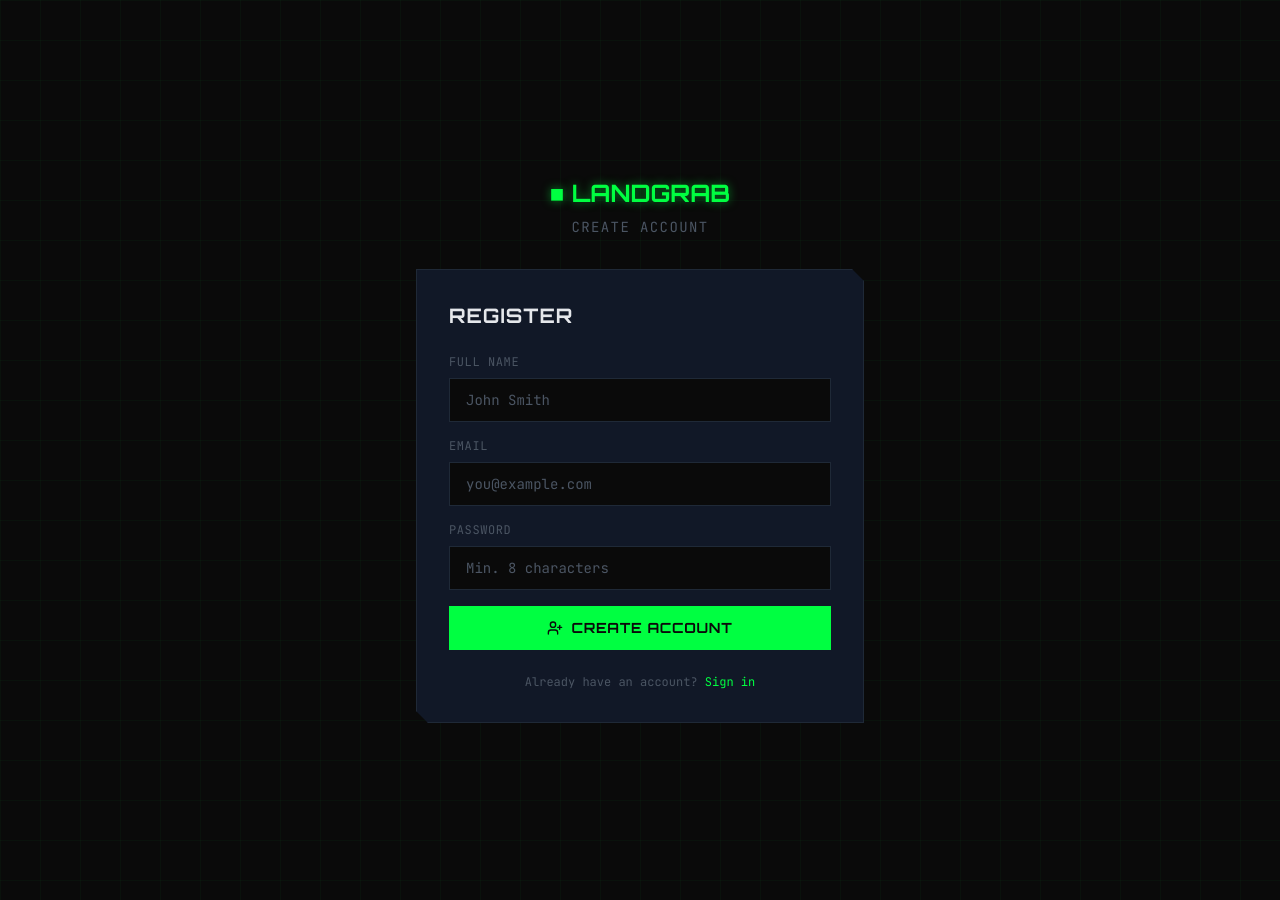
Scenario: RegisterPage › shows a network error when the backend is unreachable
This screenshot has width=1280, height=900.
Type "Jane Doe" into the field with placeholder "John Smith" at (640, 400), box [449,378,831,422]
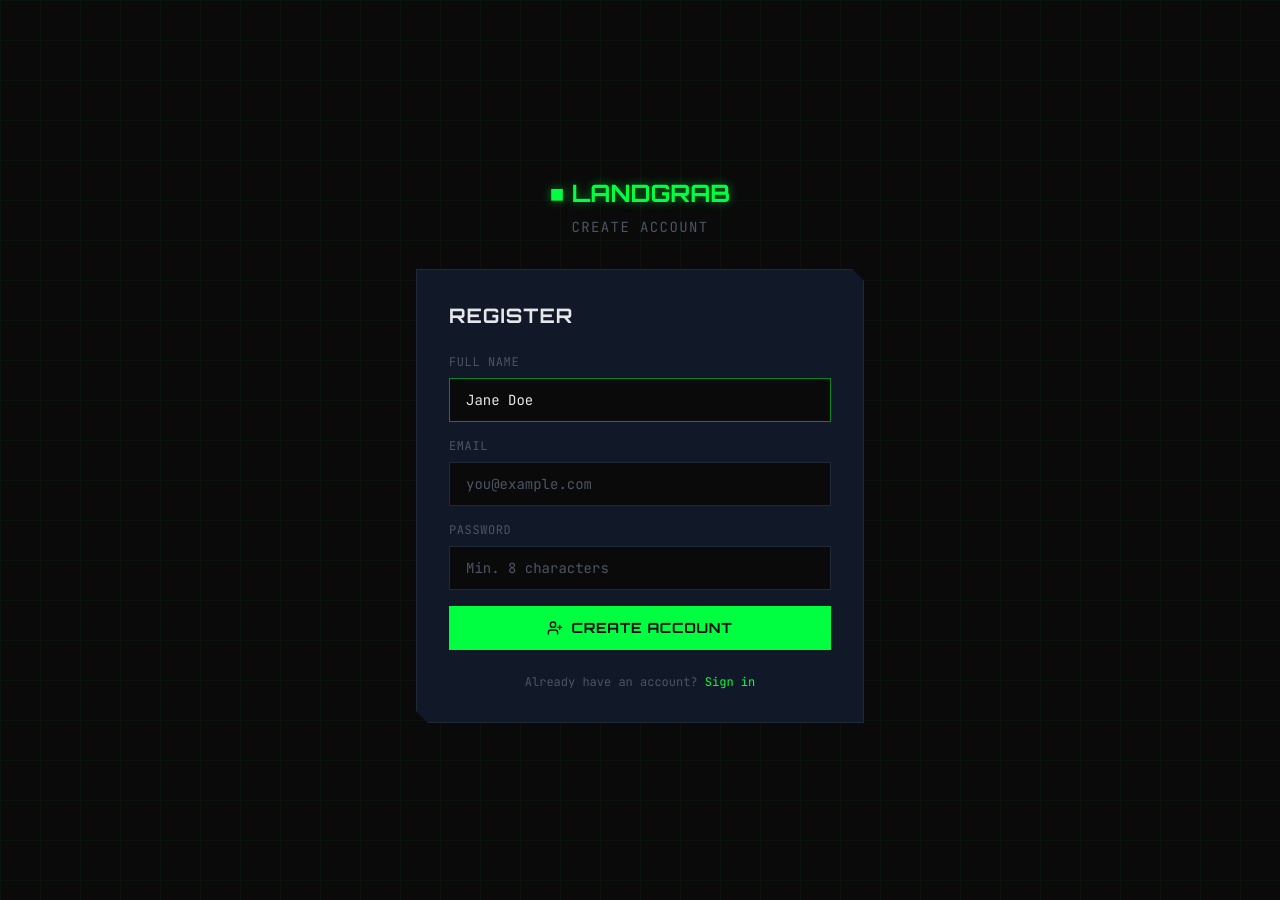
Type "jane@example.com" into the field with placeholder "you@example.com" at (640, 484), box [449,462,831,506]
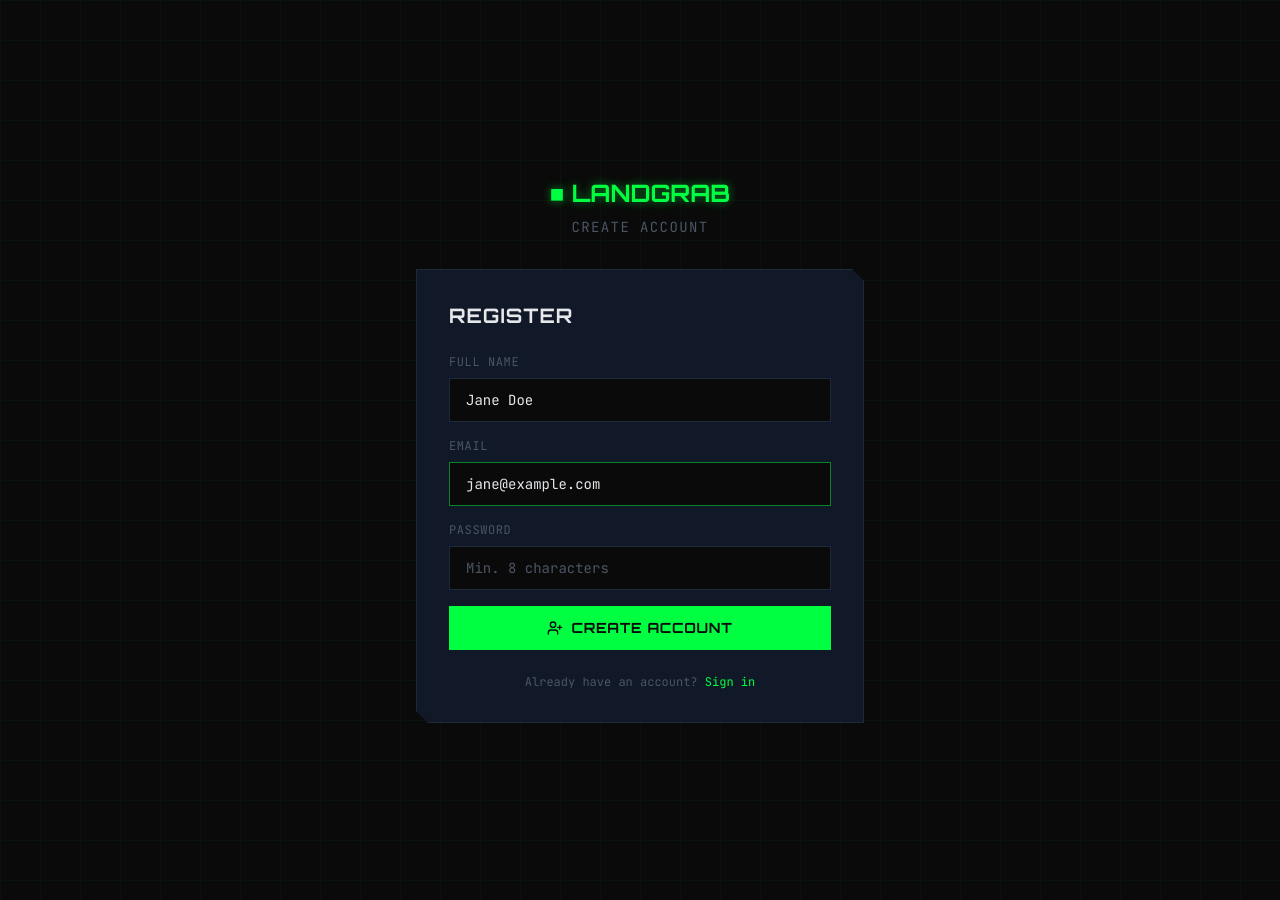
Type "password123" into the password field with placeholder "Min. 8 characters" at (640, 568), box [449,546,831,590]
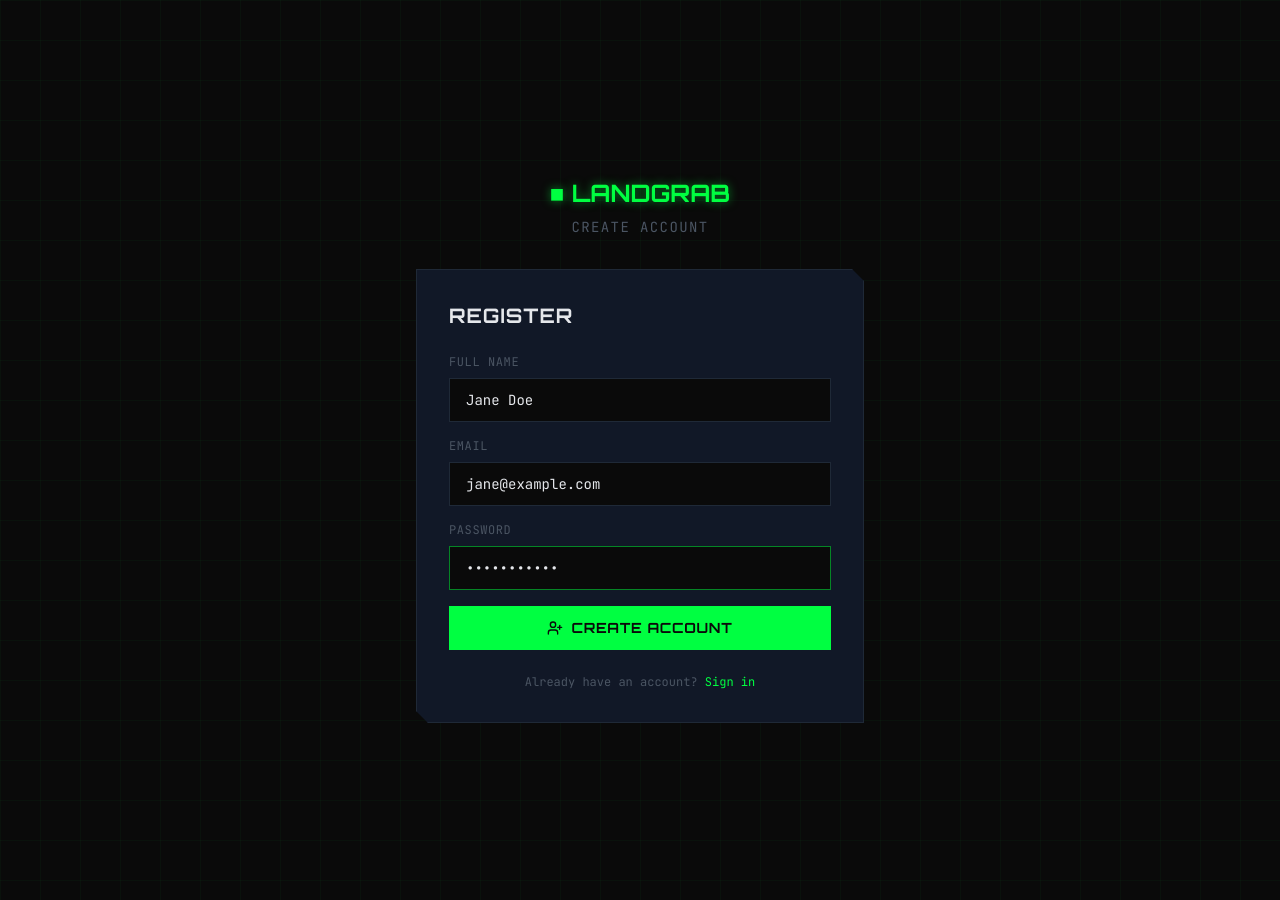
Click the button "Create Account" at (640, 628), box [449,606,831,650]
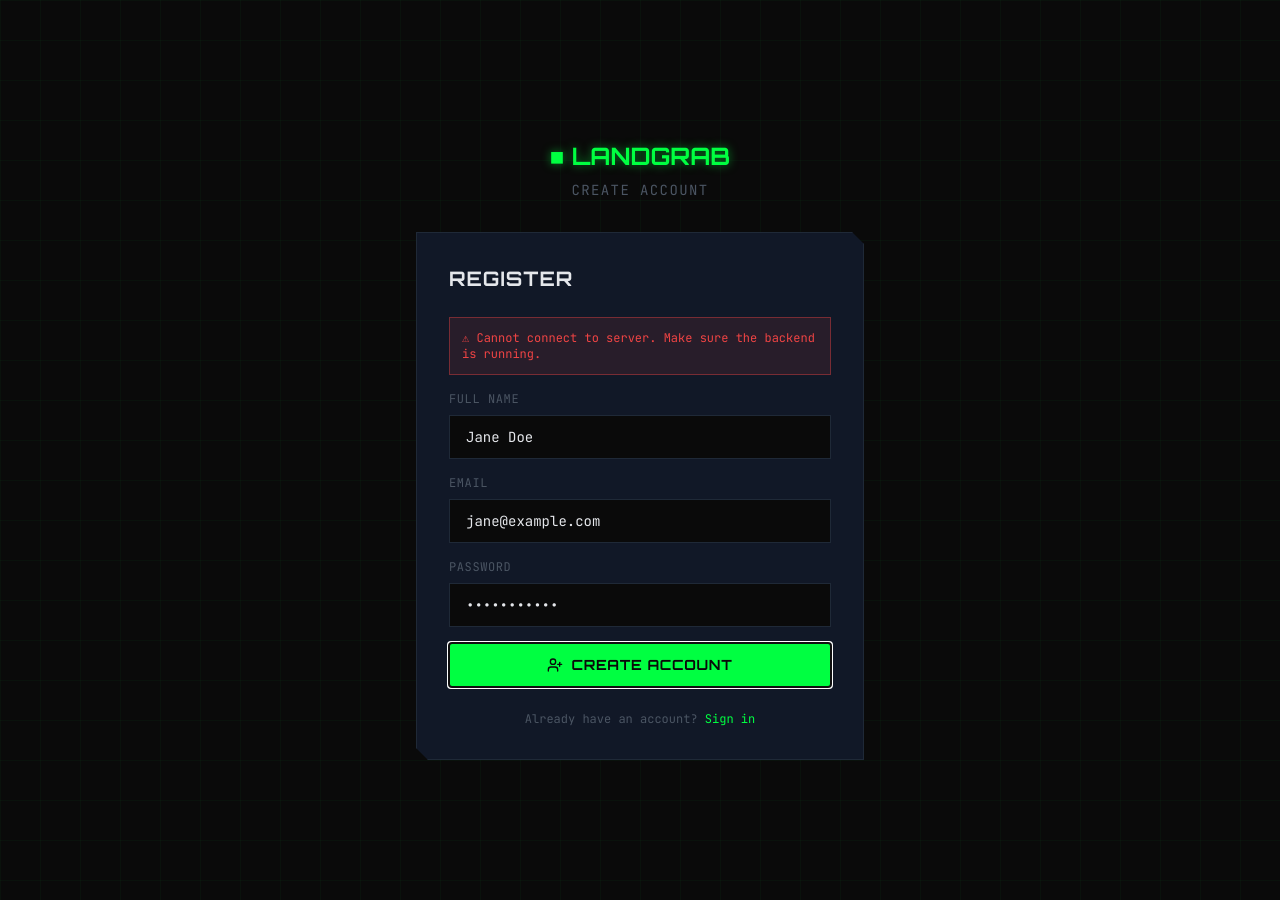
Result: the text "Cannot connect to server" is shown at [462,330,815,362]
